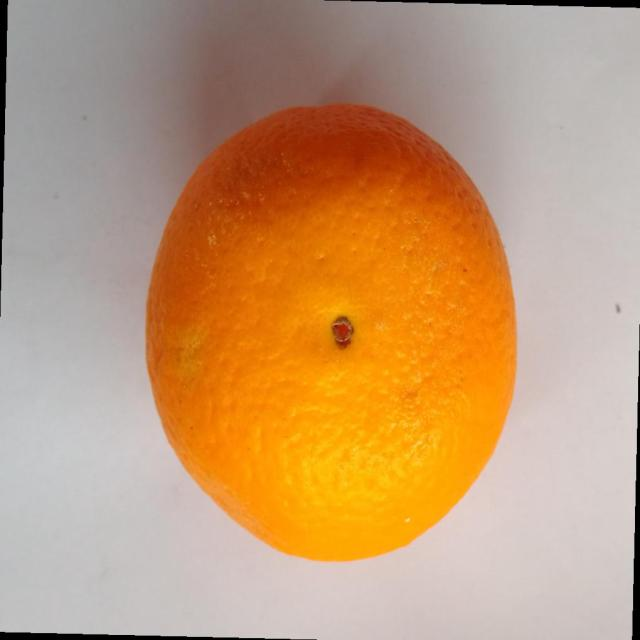fresh orange: (143, 101, 518, 563)
